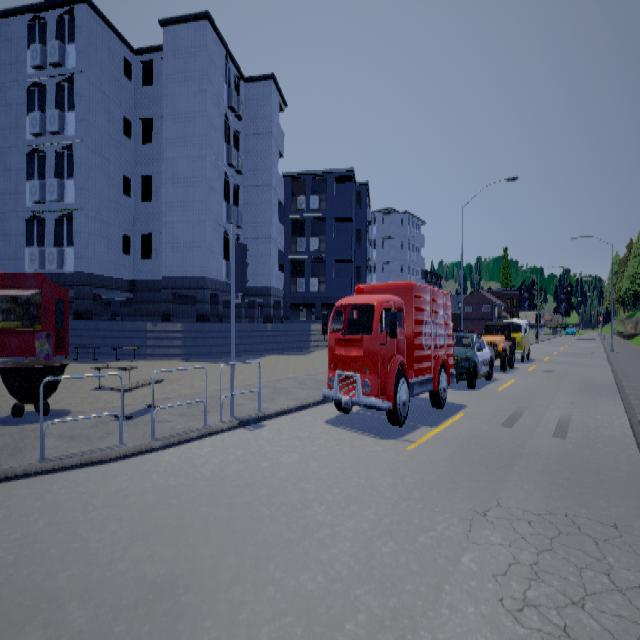vehicle: (321, 280, 455, 430), (443, 330, 495, 389), (476, 317, 516, 372), (498, 317, 531, 357)
